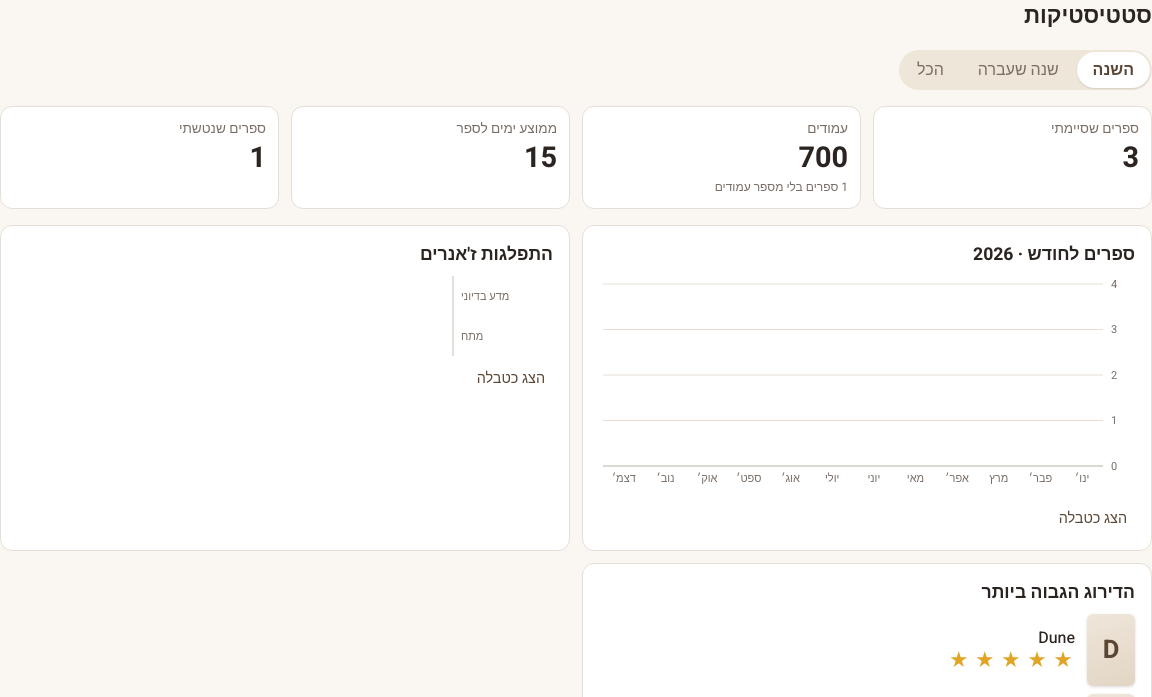
it: Stats › shows books per year for "all"
Click the button "הכל": (930, 70) [901,52,960,88]
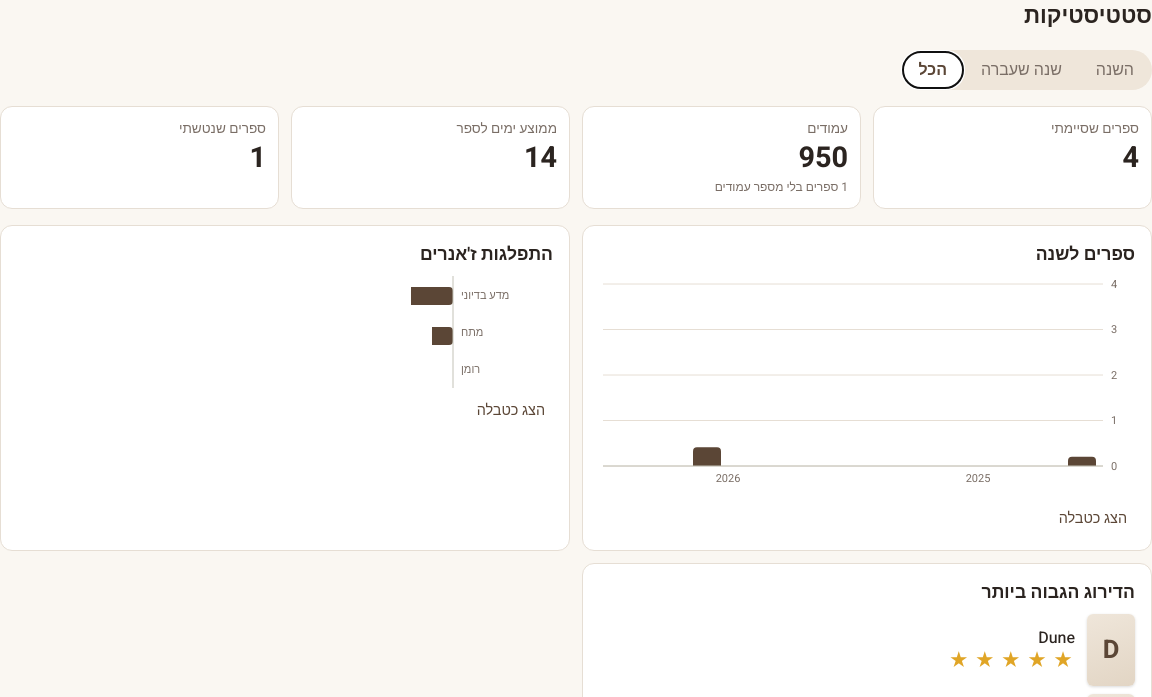
Click the button "הצג כטבלה" below "2025": (1093, 519) [1051,504,1135,534]
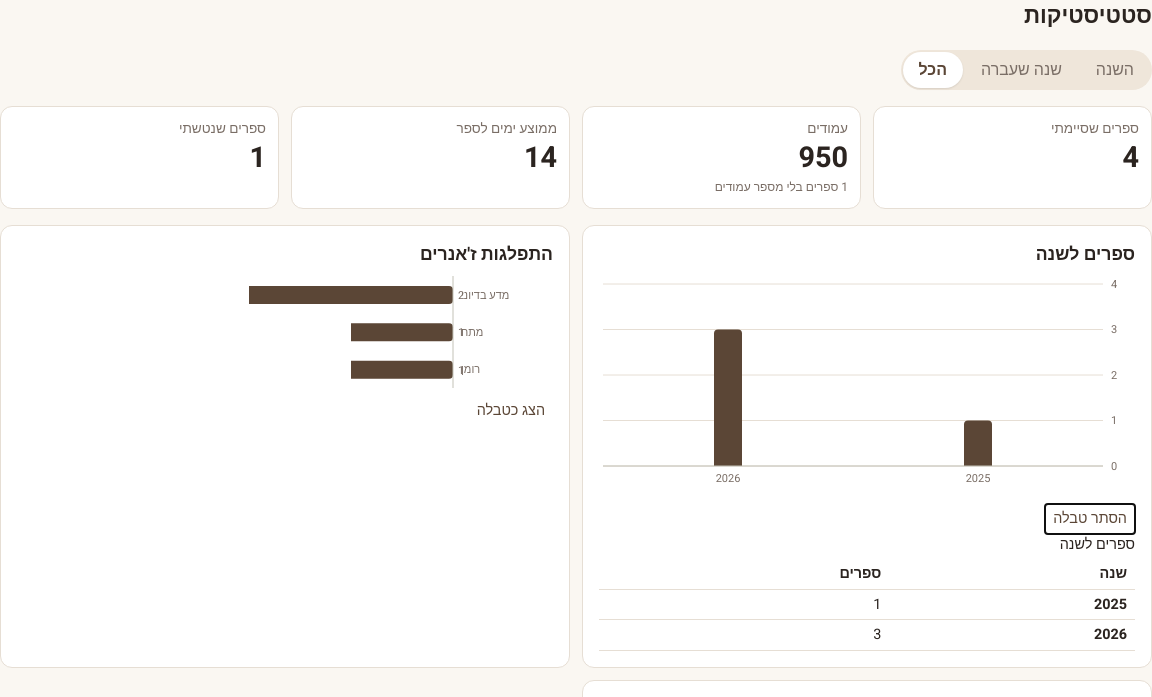
Expected: the row "2025 1" is shown, [599,589,1135,620]
Expected: the row "2026 3" is shown, [599,620,1135,650]
